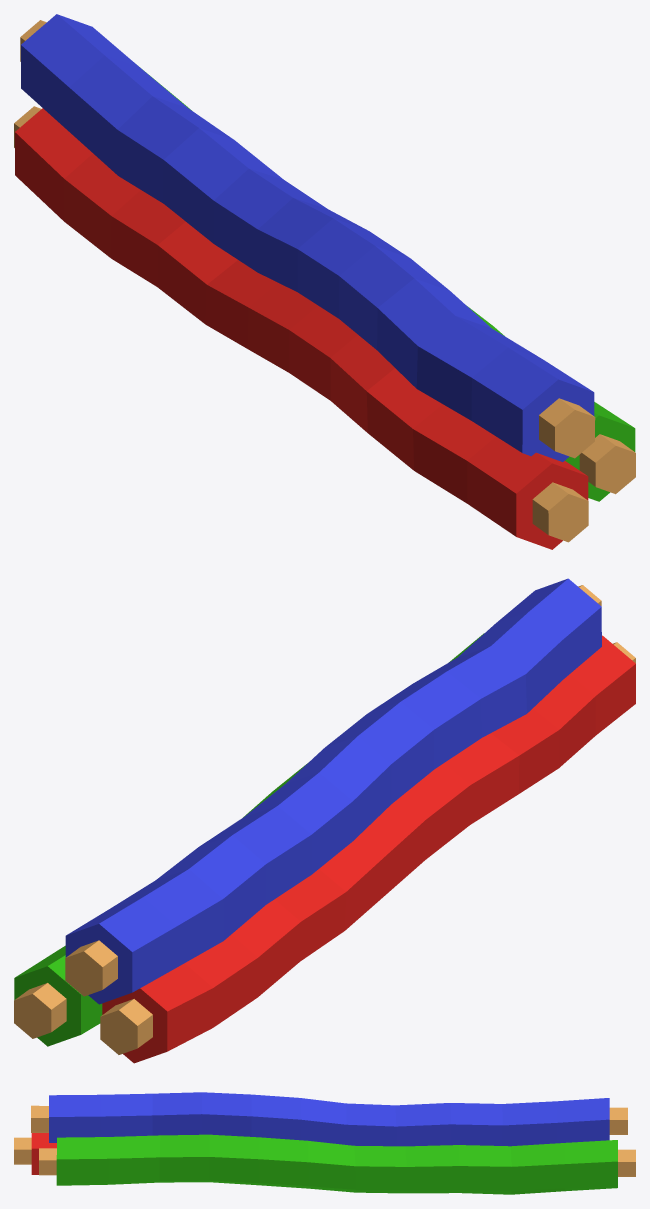
File: provoda.fbx
3 views of the same model, one above another, from view 1: azimuth 30°, elevation 25°; view 2: azimuth 150°, elevation 25°; view 3: azimuth 270°, elevation 25° (orthographic). The views are drawn at different scales.
Parts seen in each view (by area): view 1: Cylinder.001; view 2: Cylinder.001; view 3: Cylinder.001.
Part boxes in pixels (x1=…): Cylinder.001: x1=14, y1=14, x2=635, y2=549; Cylinder.001: x1=14, y1=578, x2=635, y2=1063; Cylinder.001: x1=14, y1=1092, x2=635, y2=1194.
Size of the model in its own units: 0.3339 by 0.3576 by 2.08.
